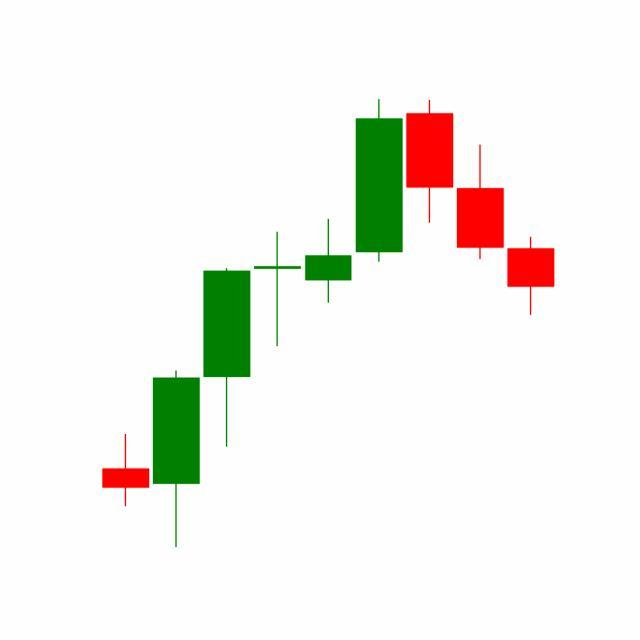Hikkake Pattern: (252, 99, 506, 350)
